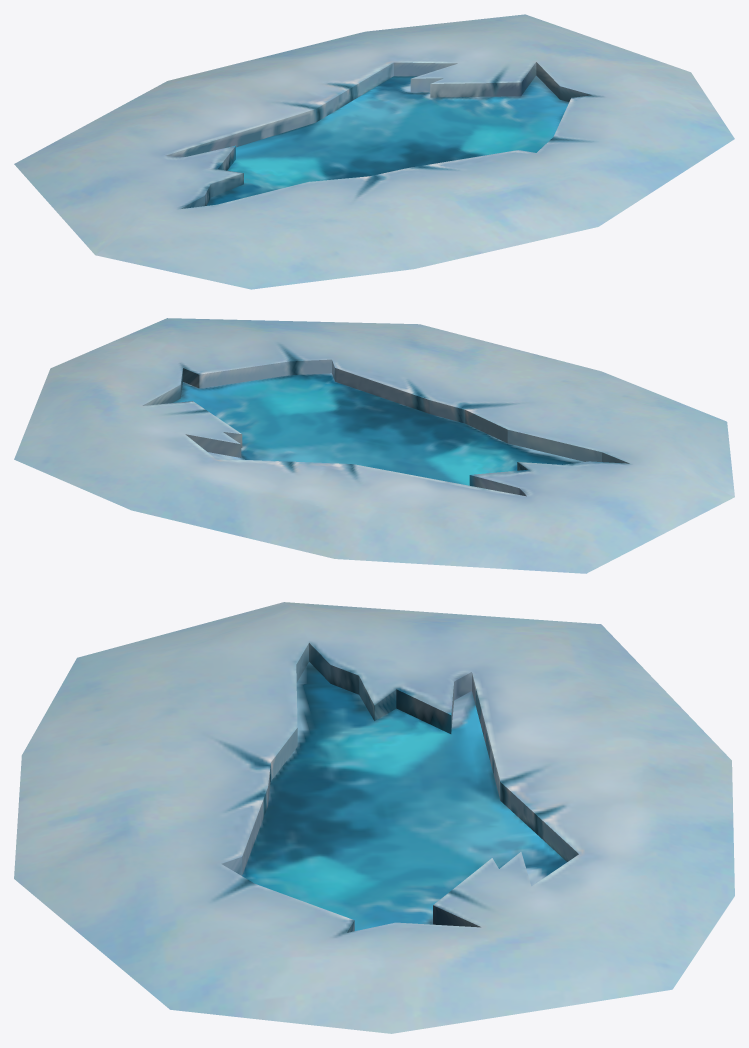
Rendered from BingKeng01.FBX.
3 views of the same model, one above another, from view 1: azimuth 30°, elevation 25°; view 2: azimuth 150°, elevation 25°; view 3: azimuth 270°, elevation 25° (orthographic). The views are drawn at different scales.
Visible parts, largest first — view 1: BingKeng01; view 2: BingKeng01; view 3: BingKeng01.
Part boxes in pixels (left/top/right/bottom): BingKeng01: left=14, top=14, right=734, bottom=289; BingKeng01: left=14, top=318, right=734, bottom=573; BingKeng01: left=14, top=602, right=734, bottom=1033.
Bounding box in the file's own units: 246 × 6.23 × 173.
